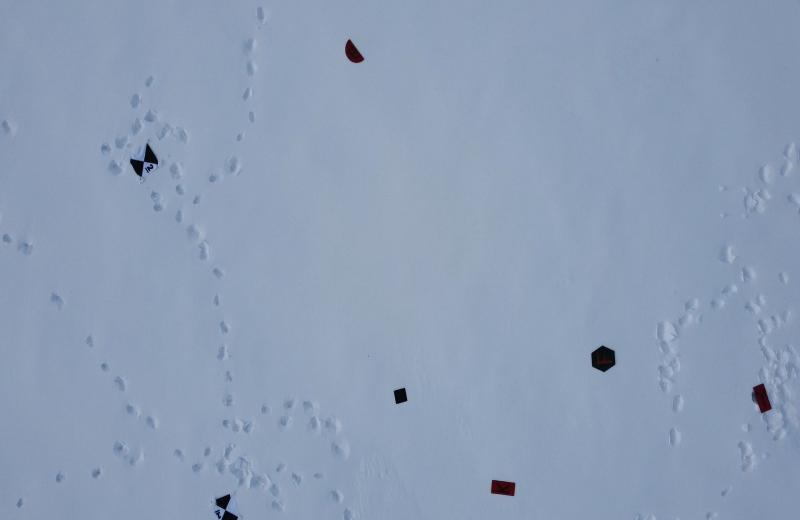Hexagon: (588, 341, 618, 376)
Rectangle: (748, 383, 776, 415), (487, 472, 516, 498)
Semi Circle: (344, 37, 369, 68)
Square: (388, 384, 411, 408)
